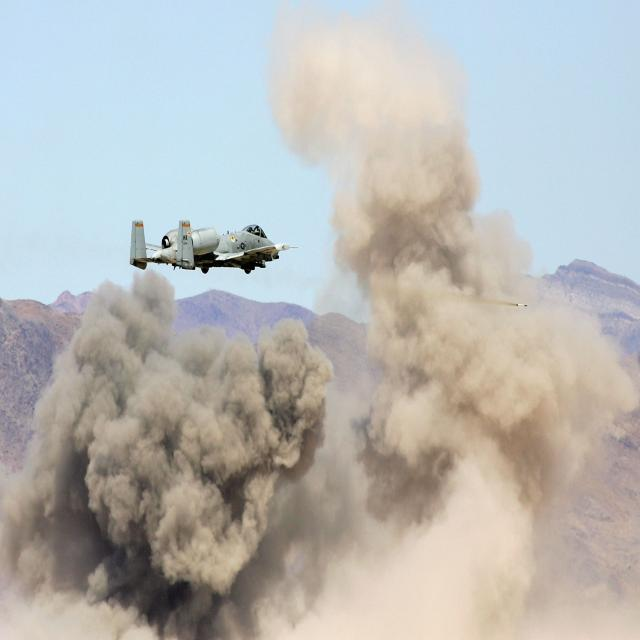MIL_Plane: (129, 220, 299, 274)
